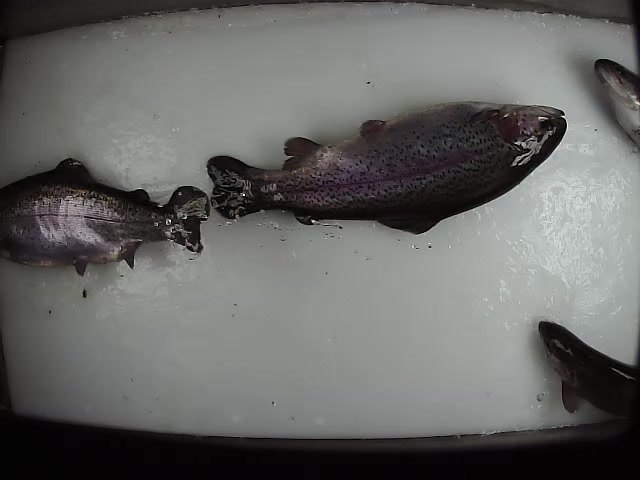fish: (206, 100, 568, 236)
